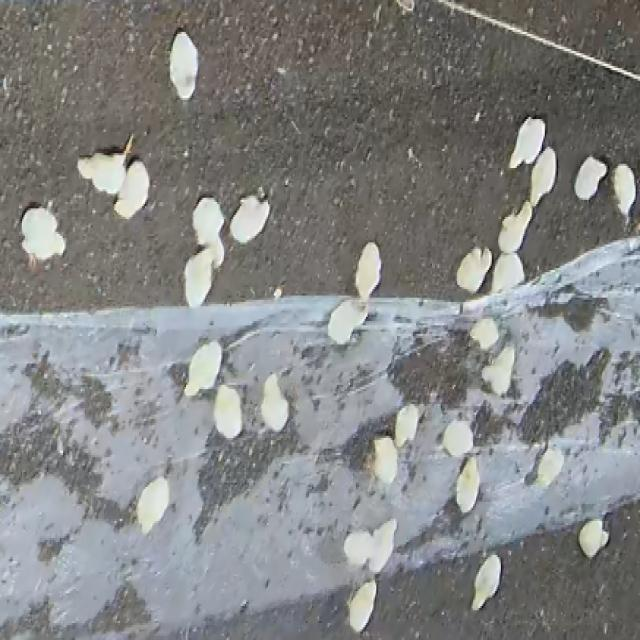broiler: (78, 138, 132, 191), (21, 206, 64, 264), (192, 198, 224, 266), (168, 30, 198, 100), (114, 157, 148, 217), (185, 340, 221, 393), (136, 476, 168, 532), (230, 196, 268, 242), (498, 200, 532, 251), (510, 117, 545, 166), (328, 298, 366, 342), (212, 385, 242, 438), (455, 247, 491, 291), (259, 374, 287, 430), (354, 242, 381, 300), (347, 578, 376, 631), (472, 553, 499, 608), (183, 249, 209, 306), (482, 347, 513, 393), (574, 155, 606, 198), (611, 164, 636, 219), (532, 147, 555, 206), (369, 519, 394, 572), (455, 455, 477, 512), (371, 436, 397, 483), (491, 253, 523, 291), (577, 519, 608, 557), (536, 444, 564, 485), (441, 419, 472, 455), (394, 404, 419, 447), (470, 317, 498, 349), (344, 532, 372, 563)
